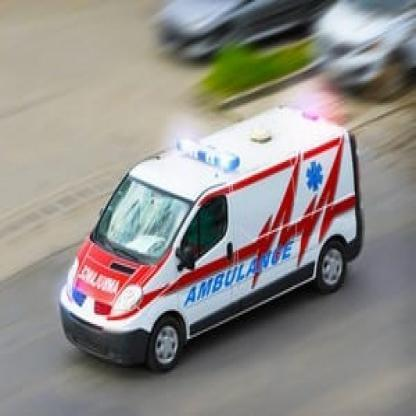Ambulance - v1 Ambulance last generate: (42, 111, 372, 373)
